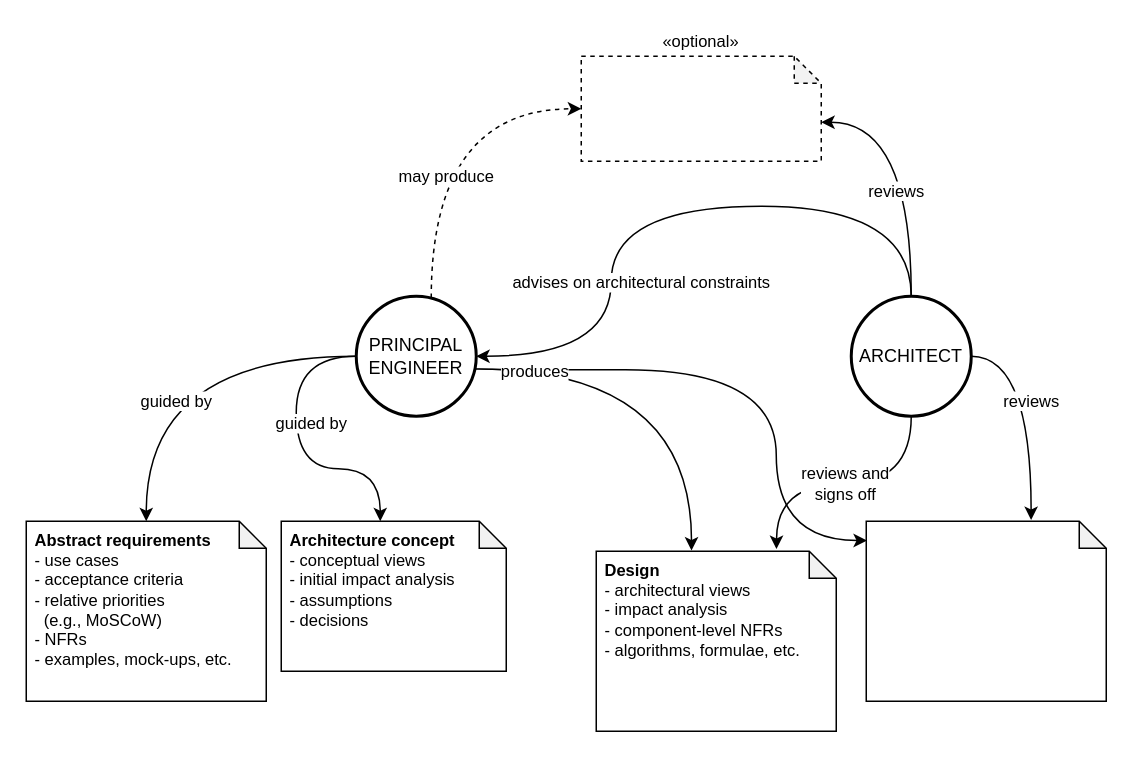
Image size: 1133x758. Some labels were removed from this diagram. Here are the shapes that lost their labels. From the top down, the centre of each, then its label:
At point (700, 108): "Prototype or simulation".
At point (985, 610): "Delivery plan - work breakdown - dependencies - affected teams".
